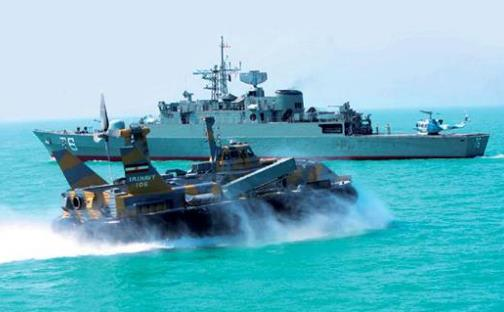airplane: (415, 108, 472, 134)
warship: (31, 32, 497, 164), (51, 90, 375, 249)
